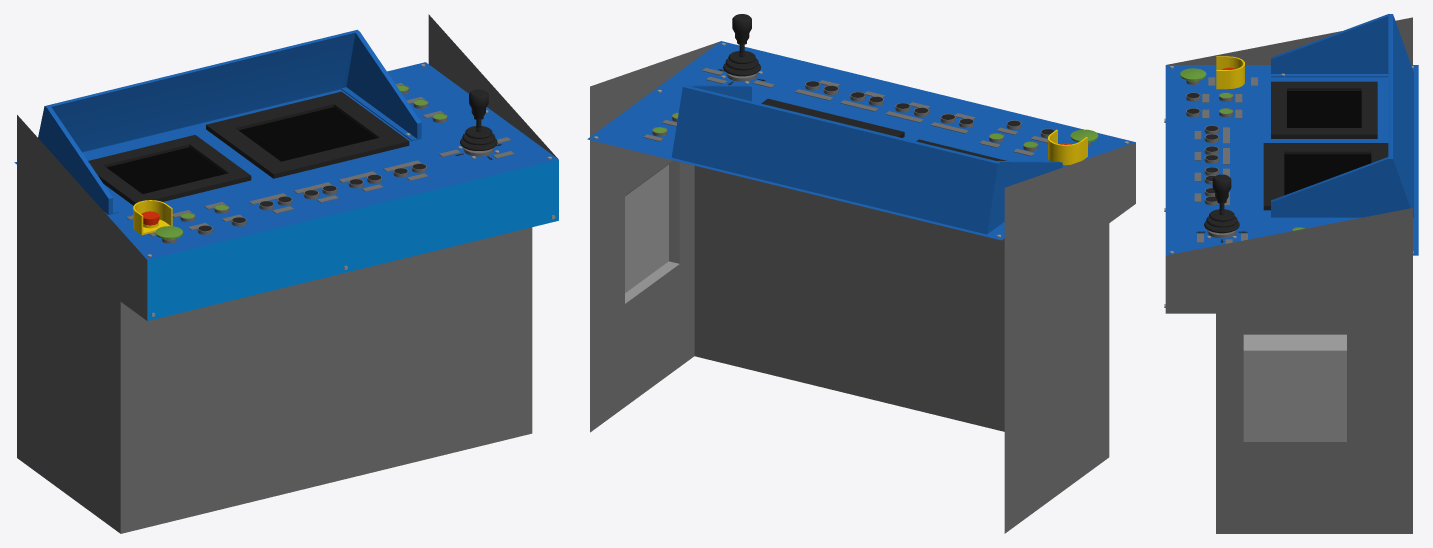
The model's file is Control Panel.fbx.
3 renders of one model, left to right at view 1: azimuth 30°, elevation 25°; view 2: azimuth 150°, elevation 25°; view 3: azimuth 270°, elevation 25°, orthographic. The views are drawn at different scales.
Visible parts, largest first — view 1: ControlPanel_Body, ControlPanel_Top, JoyStick; view 2: ControlPanel_Body, ControlPanel_Top, JoyStick; view 3: ControlPanel_Body, ControlPanel_Top, JoyStick.
Part boxes in pixels (x1,y1,x2,y2): ControlPanel_Body: [17, 14, 558, 533]; ControlPanel_Top: [14, 29, 558, 259]; JoyStick: [460, 89, 497, 150]; ControlPanel_Body: [590, 41, 1135, 533]; ControlPanel_Top: [587, 41, 1135, 240]; JoyStick: [723, 14, 760, 76]; ControlPanel_Body: [1164, 17, 1412, 533]; ControlPanel_Top: [1165, 14, 1418, 255]; JoyStick: [1204, 174, 1239, 233].
Bounding box in the file's own units: 162 × 131 × 89.11.
1 material, 1 textured.
